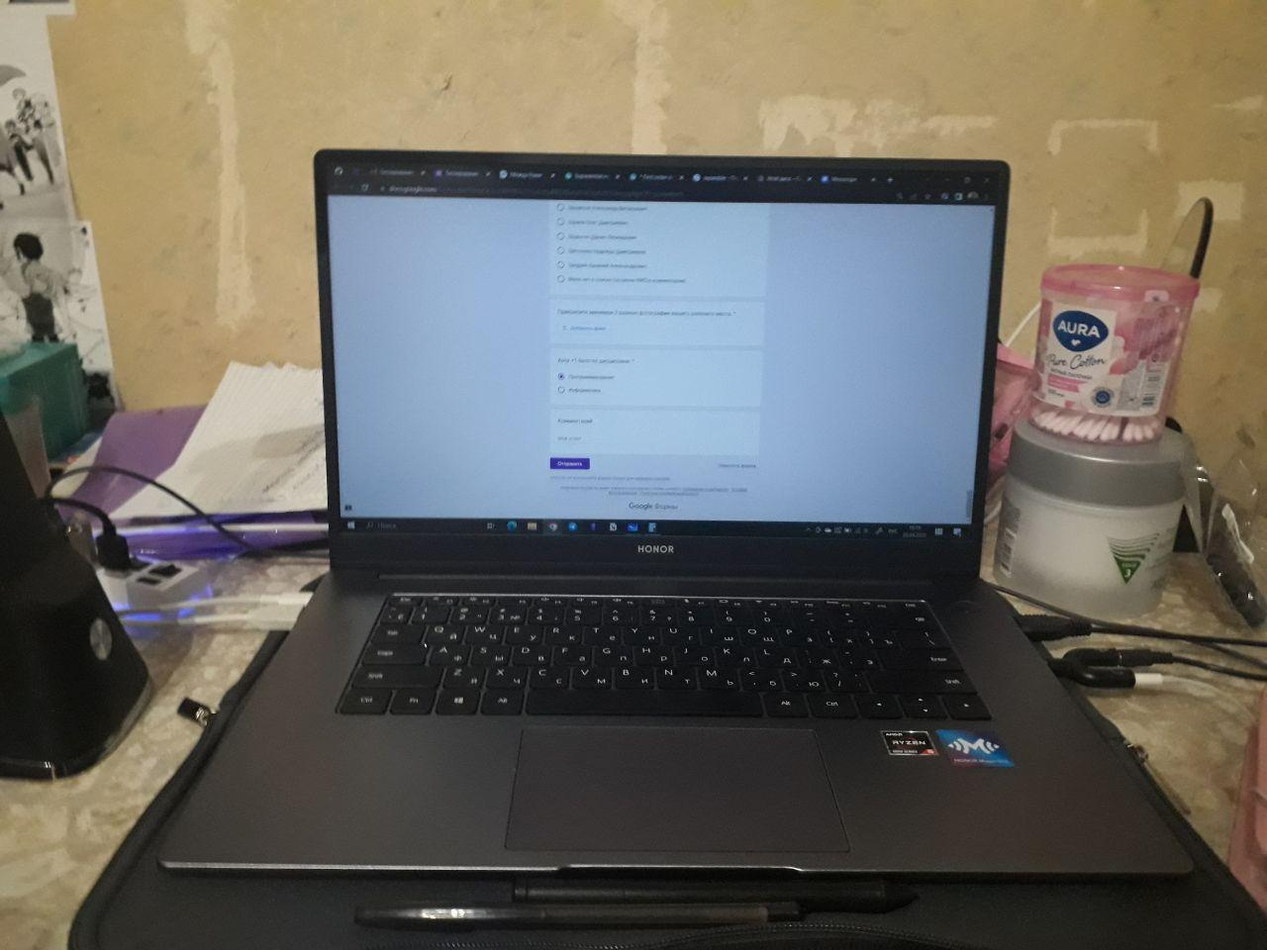monitor: (304, 139, 1018, 595)
